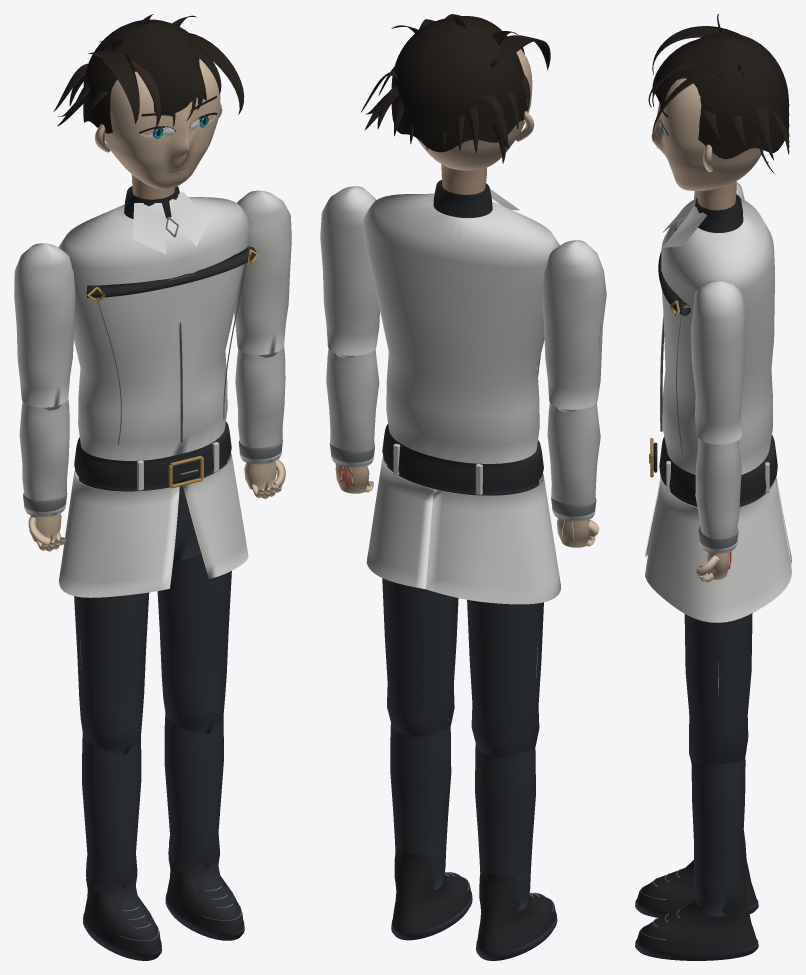
The model's file is character_explorer.glb.
3 renders of one model, left to right at view 1: azimuth 30°, elevation 25°; view 2: azimuth 150°, elevation 25°; view 3: azimuth 270°, elevation 25°, orthographic. The views are drawn at different scales.
Parts seen in each view (by area): view 1: PlayerPart_Spine, PlayerPart_Head, PlayerPart_CoatTails, PlayerPart_Shin_R, PlayerPart_Shin_L, PlayerPart_Thigh_R, PlayerPart_Thigh_L, PlayerPart_Arm_L, PlayerPart_Arm_R, PlayerPart_Forearm_R, PlayerPart_Hips, PlayerPart_Forearm_L; view 2: PlayerPart_Spine, PlayerPart_CoatTails, PlayerPart_Head, PlayerPart_Shin_R, PlayerPart_Shin_L, PlayerPart_Thigh_L, PlayerPart_Thigh_R, PlayerPart_Arm_L, PlayerPart_Arm_R, PlayerPart_Forearm_L, PlayerPart_Forearm_R, PlayerPart_Hips; view 3: PlayerPart_Spine, PlayerPart_Head, PlayerPart_CoatTails, PlayerPart_Shin_R, PlayerPart_Thigh_R, PlayerPart_Arm_R, PlayerPart_Forearm_R, PlayerPart_Hips, PlayerPart_Shin_L.
Part boxes in pixels (<box>): PlayerPart_Spine: <box>58,186,258,460</box>; PlayerPart_Head: <box>53,14,244,199</box>; PlayerPart_CoatTails: <box>59,452,248,597</box>; PlayerPart_Shin_R: <box>164,713,244,940</box>; PlayerPart_Shin_L: <box>82,733,161,960</box>; PlayerPart_Thigh_R: <box>157,553,231,734</box>; PlayerPart_Thigh_L: <box>74,592,149,754</box>; PlayerPart_Arm_L: <box>14,243,75,407</box>; PlayerPart_Arm_R: <box>234,190,291,354</box>; PlayerPart_Forearm_R: <box>235,343,285,498</box>; PlayerPart_Hips: <box>74,421,231,562</box>; PlayerPart_Forearm_L: <box>19,396,69,551</box>; PlayerPart_Spine: <box>362,180,559,463</box>; PlayerPart_CoatTails: <box>366,455,560,604</box>; PlayerPart_Head: <box>361,14,550,194</box>; PlayerPart_Shin_R: <box>390,723,472,940</box>; PlayerPart_Shin_L: <box>475,744,557,960</box>; PlayerPart_Thigh_L: <box>467,600,543,757</box>; PlayerPart_Thigh_R: <box>382,578,458,736</box>; PlayerPart_Arm_L: <box>542,240,606,409</box>; PlayerPart_Arm_R: <box>320,186,379,355</box>; PlayerPart_Forearm_L: <box>547,402,600,547</box>; PlayerPart_Forearm_R: <box>326,348,379,493</box>; PlayerPart_Hips: <box>382,424,543,495</box>; PlayerPart_Spine: <box>658,194,774,474</box>; PlayerPart_Head: <box>648,14,789,210</box>; PlayerPart_CoatTails: <box>645,477,791,622</box>; PlayerPart_Shin_R: <box>635,757,758,960</box>; PlayerPart_Thigh_R: <box>684,613,752,768</box>; PlayerPart_Arm_R: <box>691,280,744,444</box>; PlayerPart_Forearm_R: <box>695,438,741,582</box>; PlayerPart_Hips: <box>649,435,777,506</box>; PlayerPart_Shin_L: <box>635,830,758,917</box>.
Bounding box in the file's own units: 0.593 × 1.87 × 0.2968.
